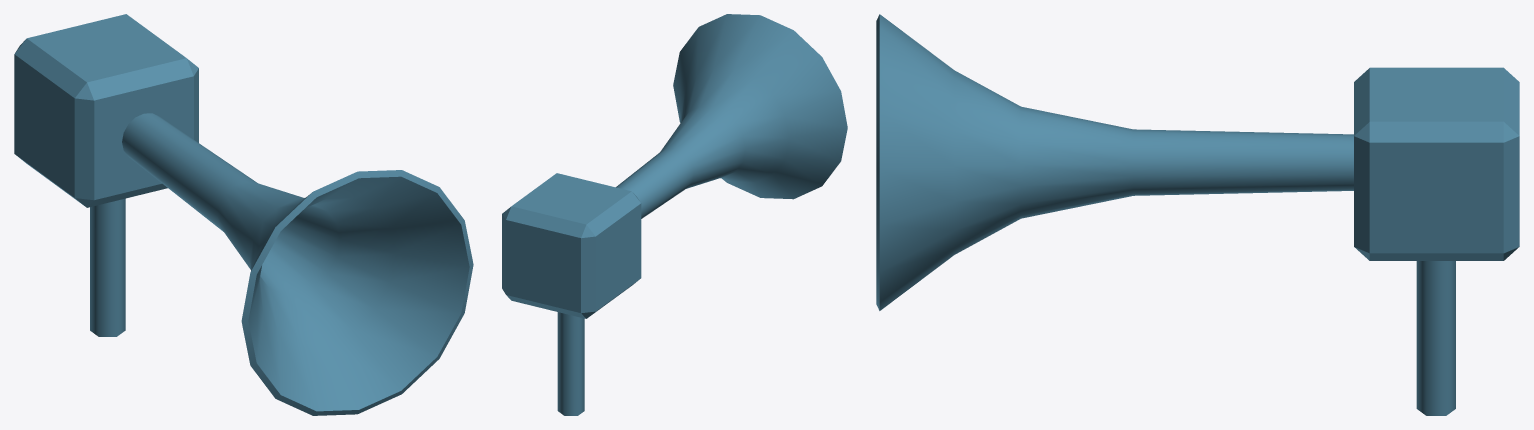
File: car horn.FBX
The picture shows the model from 3 angles, left to right: view 1: azimuth 30°, elevation 25°; view 2: azimuth 150°, elevation 25°; view 3: azimuth 270°, elevation 25°; orthographic projection. The views are drawn at different scales.
Parts seen in each view (by area): view 1: soun; view 2: soun; view 3: soun.
Boxes of the visible parts, x1,y1,x2,y2 form: soun: (14,14,473,415); soun: (502,14,847,415); soun: (876,14,1519,415).
Bounding box in the file's own units: 0.1714 × 0.2419 × 0.3706.
